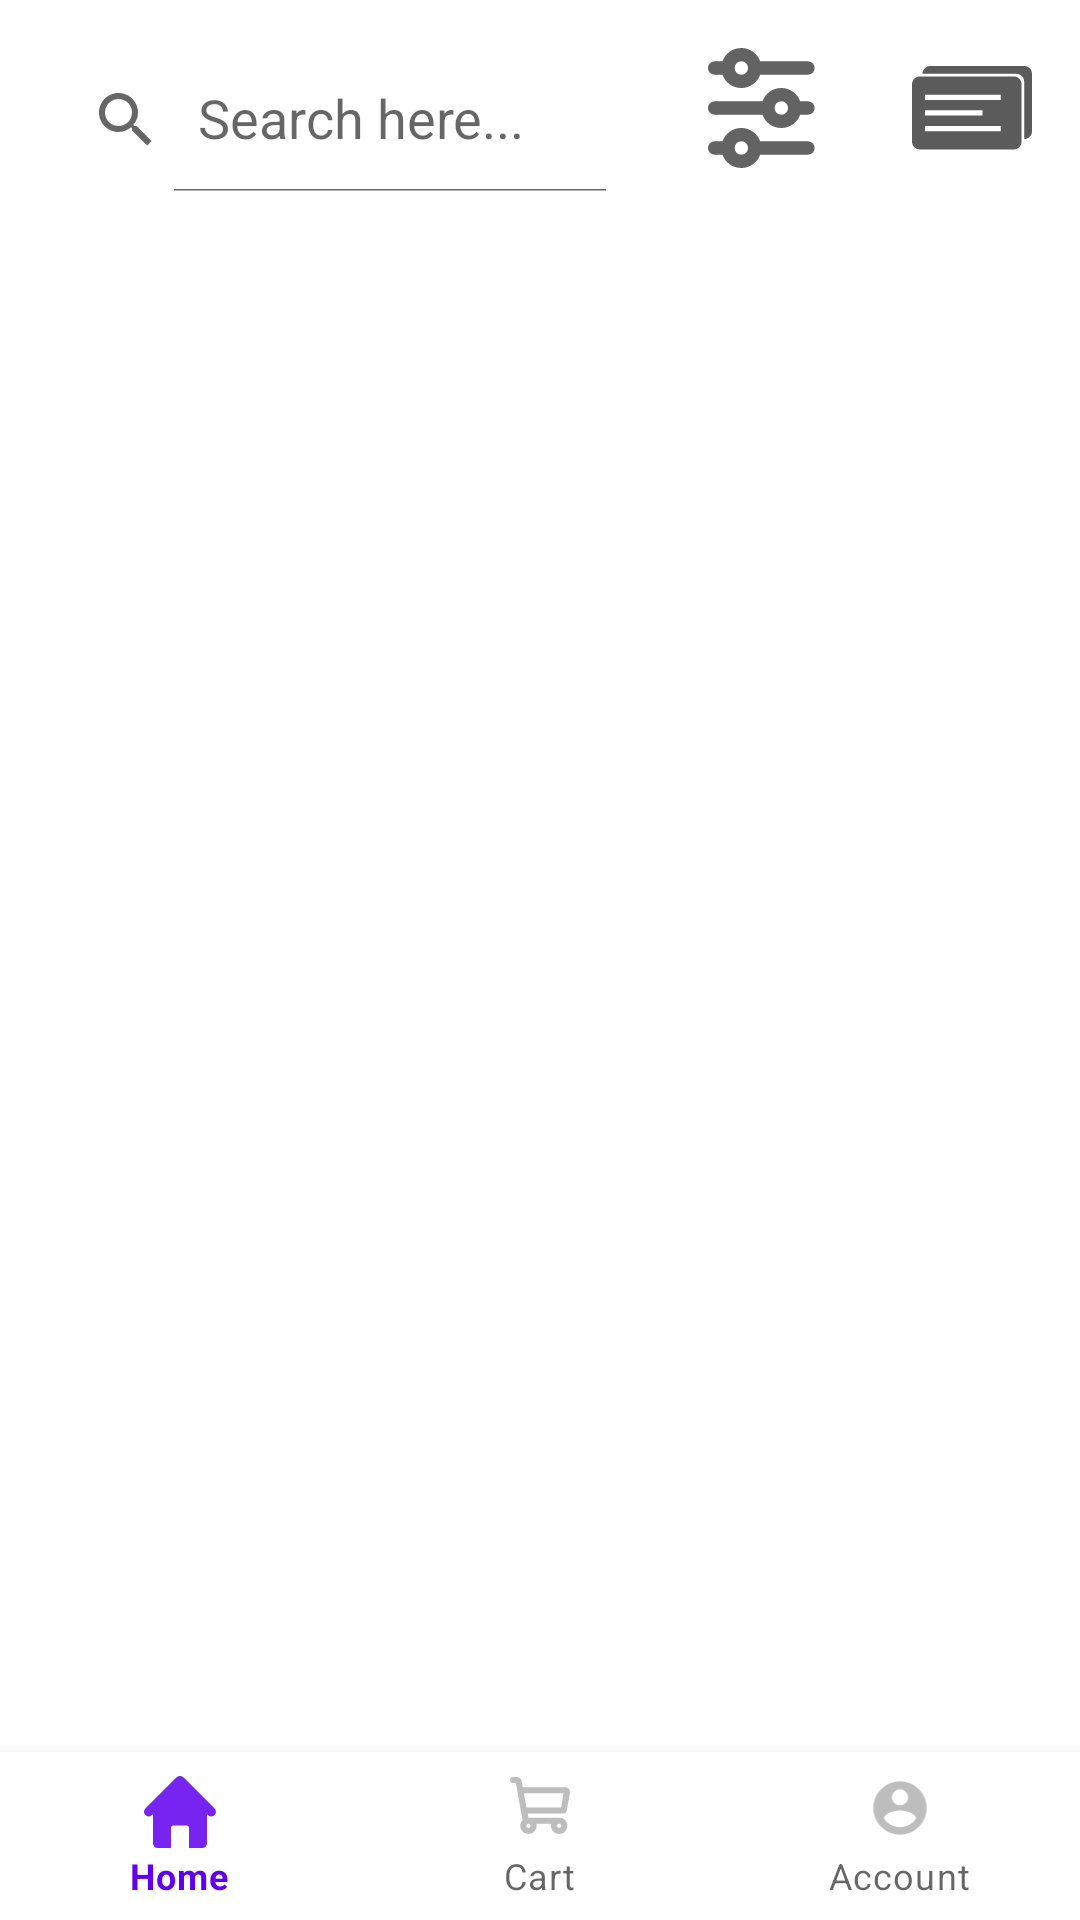

Icon bounding boxes for this 1080*1920 phone screenshot, format (x1, y1, x2, y2):
filter: (708, 48, 815, 168)
